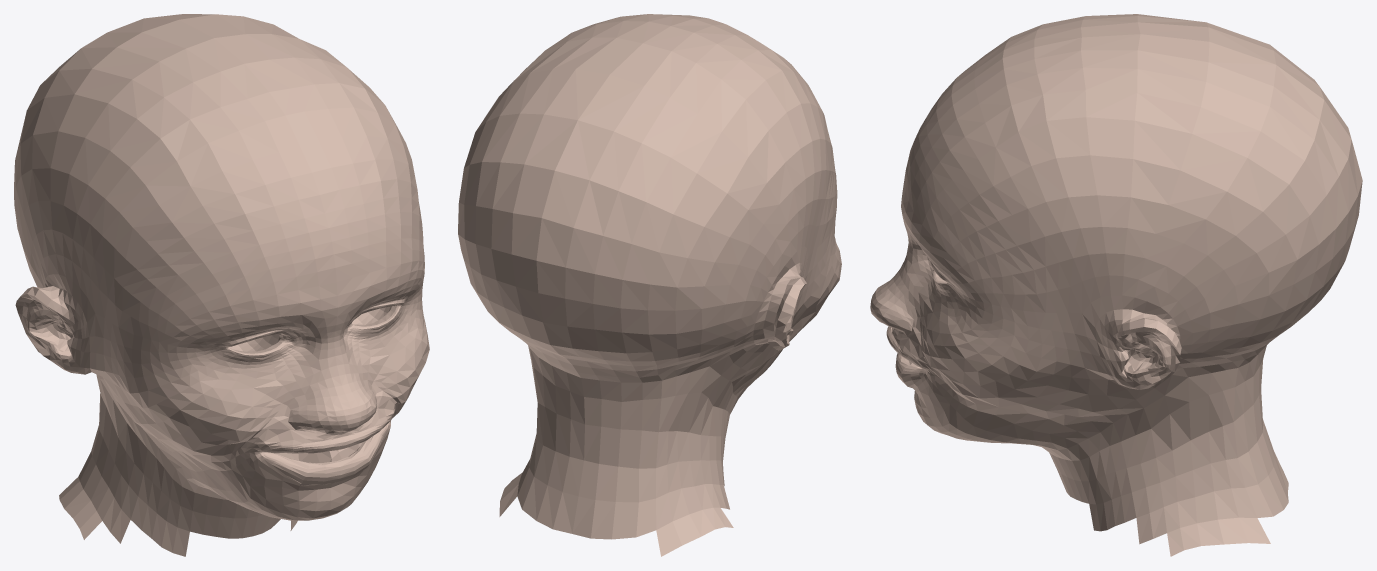
Rendered from karma_face_MH_smile_Z.glb.
3 renders of one model, left to right at view 1: azimuth 30°, elevation 25°; view 2: azimuth 150°, elevation 25°; view 3: azimuth 270°, elevation 25°, orthographic. The views are drawn at different scales.
Parts seen in each view (by area): view 1: head; view 2: head; view 3: head.
Boxes of the visible parts, box(x1,y1,x2,y2) form: head: box(14, 14, 429, 556); head: box(458, 14, 841, 556); head: box(870, 14, 1362, 556).
Bounding box in the file's own units: 3.03 × 3.91 × 3.7.
